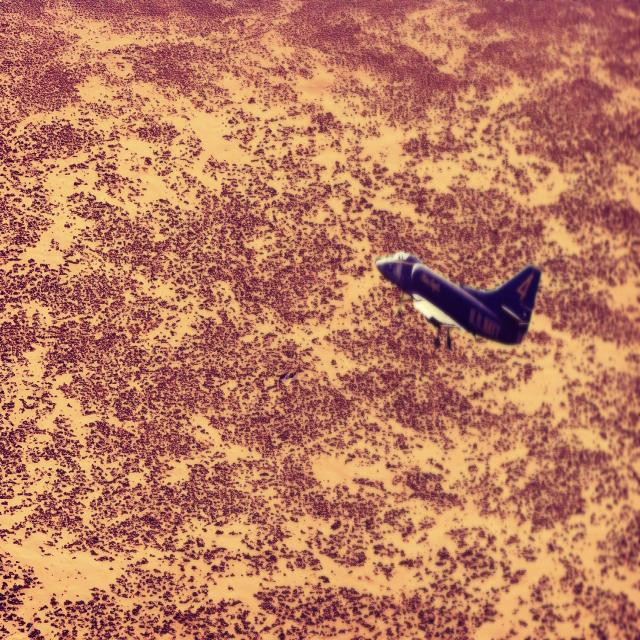airplane: (374, 249, 542, 348)
